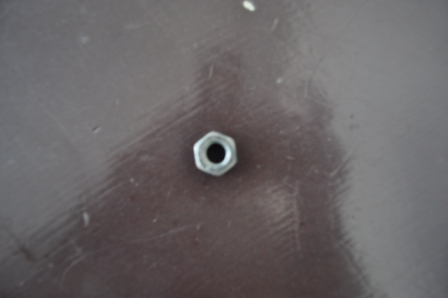BOLT: (192, 130, 238, 178)
